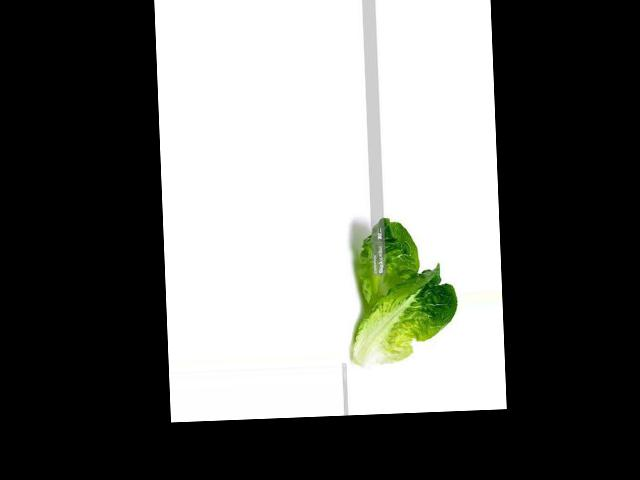lettuce: (346, 247, 437, 361)
